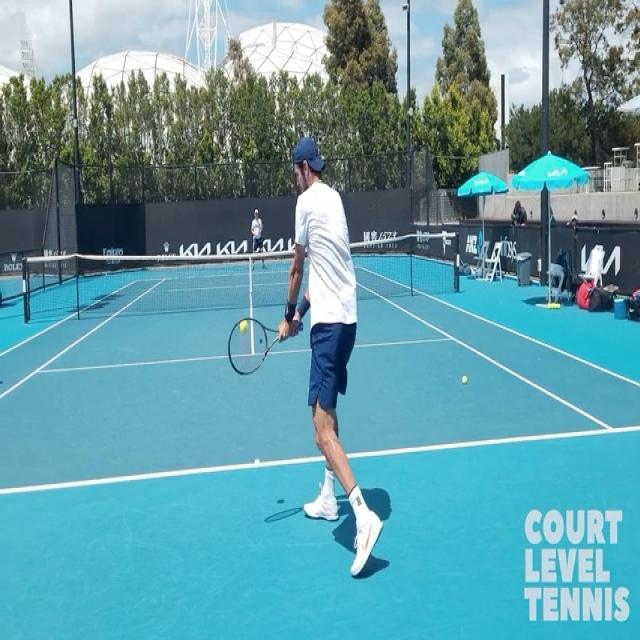backhand-stroke: (226, 140, 382, 580)
